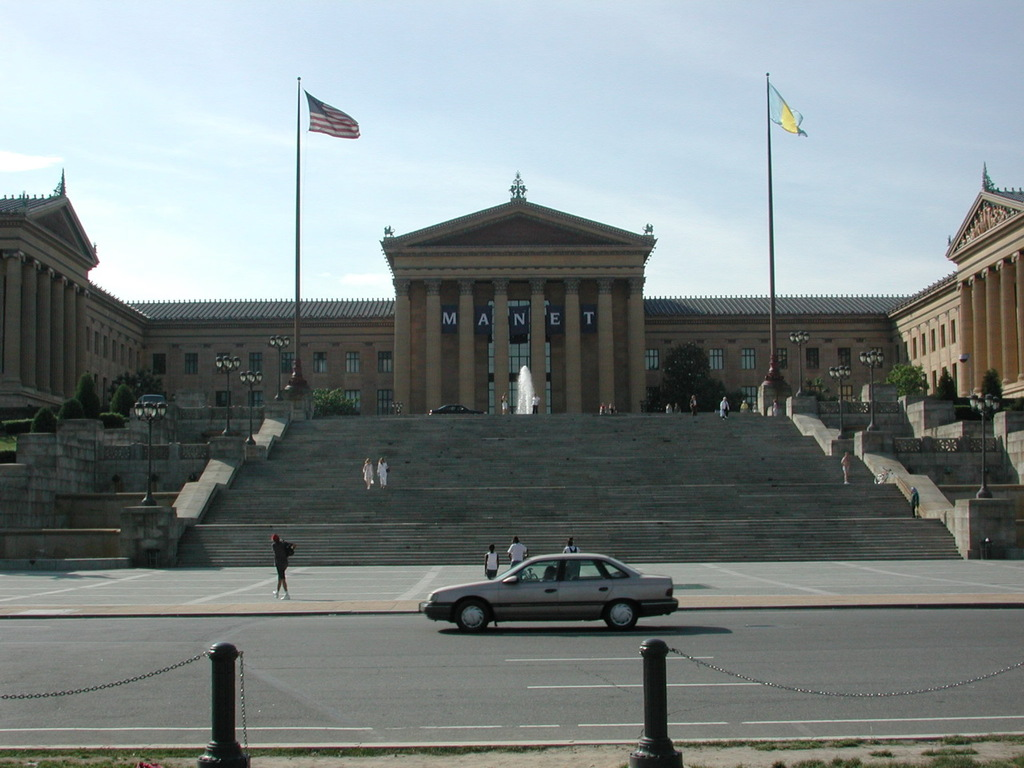Car: (428, 548, 679, 641)
